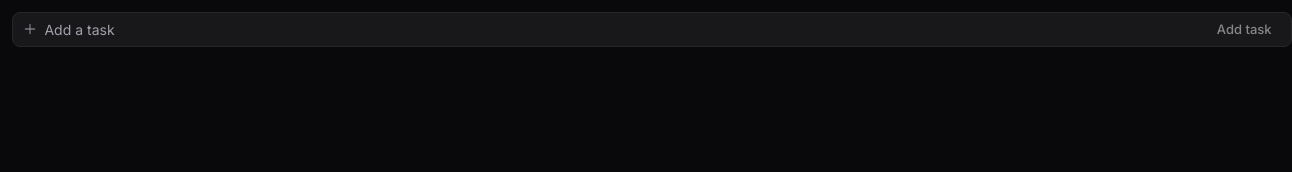
it: QuickAddTask date words (M32) › the chip’s × removes it too, and other date words typed after bring a chip back
Type "Read the friday report" into the field with placeholder "Add a task" at [622, 29], box 44,19 -> 1199,40
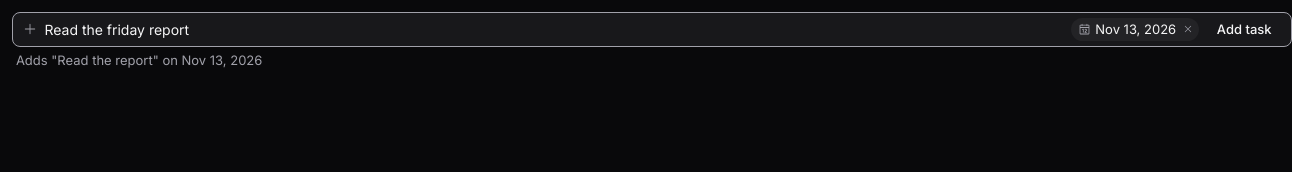
Click the button named "Remove date" at [1188, 29], box 1180,22 -> 1196,37
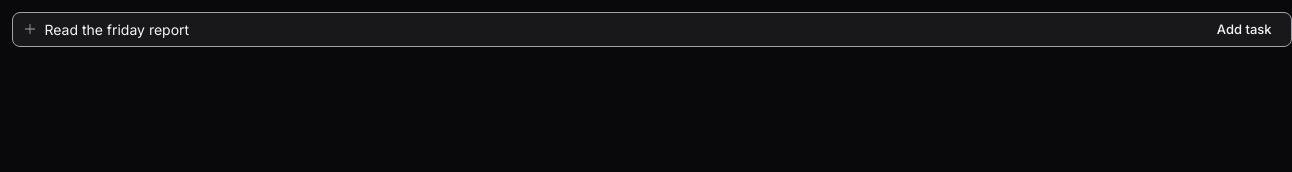
Check: the element with test id "quick-add-date" is gone
Type " tomorrow" into the field with placeholder "Add a task" at [622, 29], box 44,19 -> 1199,40
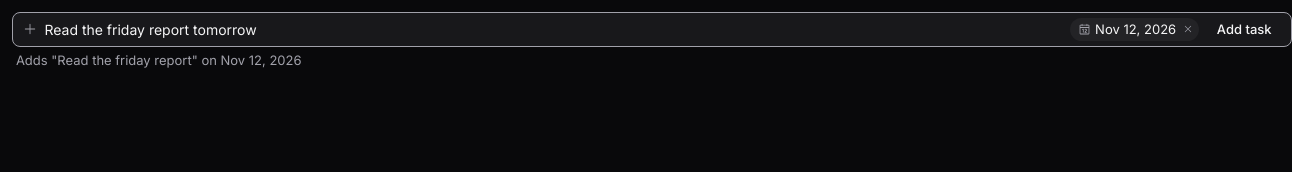
Check: the element with test id "quick-add-date" reads "Nov 12, 2026", box 1095,21 -> 1176,37
